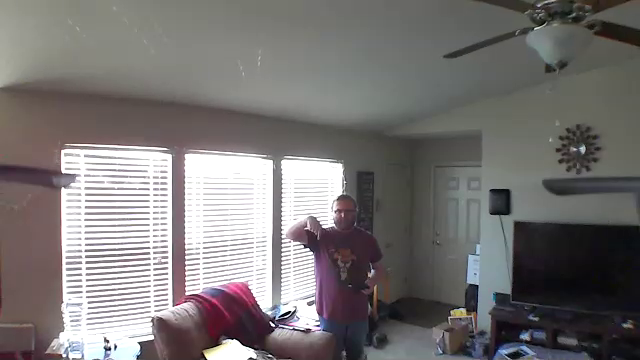down: (301, 211, 329, 243)
